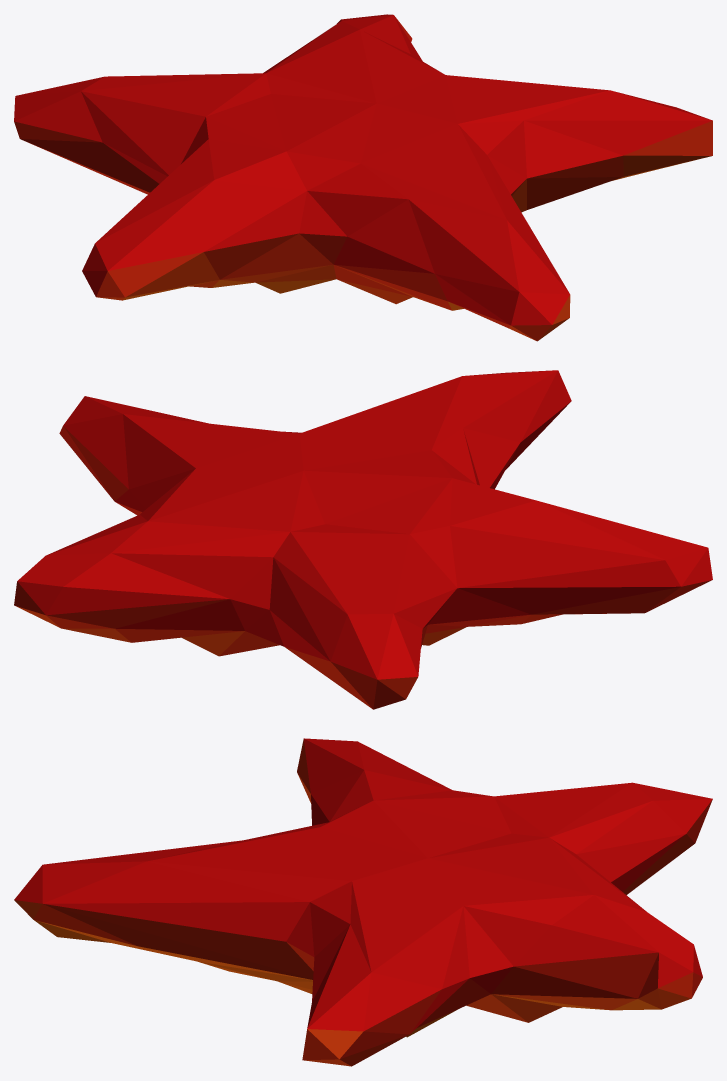
File: starfish-a.glb
3 renders of one model, top to bottom at view 1: azimuth 30°, elevation 25°; view 2: azimuth 150°, elevation 25°; view 3: azimuth 270°, elevation 25°, orthographic. The views are drawn at different scales.
Parts seen in each view (by area): view 1: starfish-a; view 2: starfish-a; view 3: starfish-a.
Boxes of the visible parts, x1,y1,x2,y2 form: starfish-a: (14,14,712,341); starfish-a: (14,370,712,709); starfish-a: (14,738,712,1066).
Size of the model in its own units: 0.2535 by 0.0676 by 0.2499.
